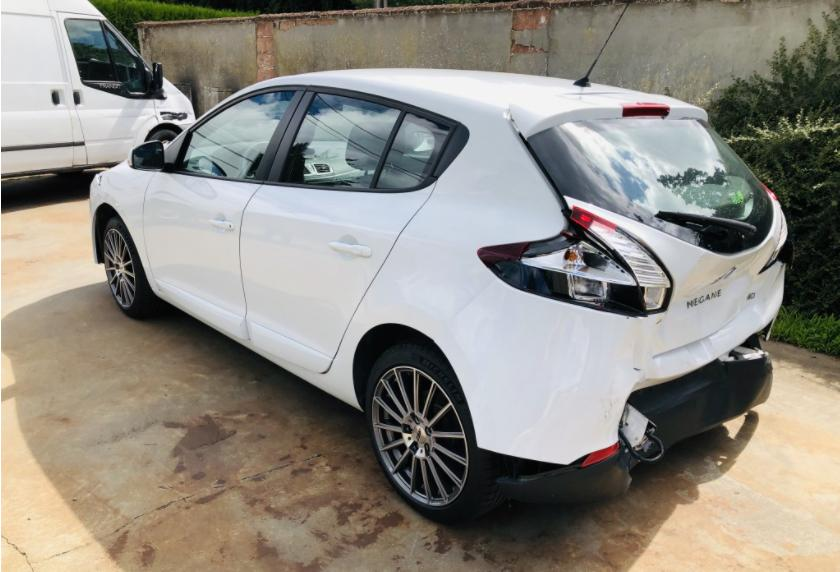Back-bumper: (497, 332, 774, 505)
Back-door: (240, 85, 461, 373)
Back-wheel: (364, 335, 508, 524)
Back-window: (278, 92, 401, 188), (376, 112, 451, 189)
Back-windshield: (526, 117, 774, 256)
Fender: (89, 159, 160, 292)
Front-door: (143, 85, 308, 340)
Front-wheel: (103, 214, 171, 318)
Front-window: (177, 91, 295, 178)
Headlight: (92, 174, 101, 188)
Mirror: (127, 129, 190, 172)
Quarter-panel: (324, 178, 786, 465)
Rocker-panel: (153, 290, 335, 396)
Roof: (166, 68, 644, 149)
Tail-light: (478, 223, 646, 315), (563, 210, 671, 312), (760, 181, 794, 271)
Trunk: (507, 93, 783, 357)
